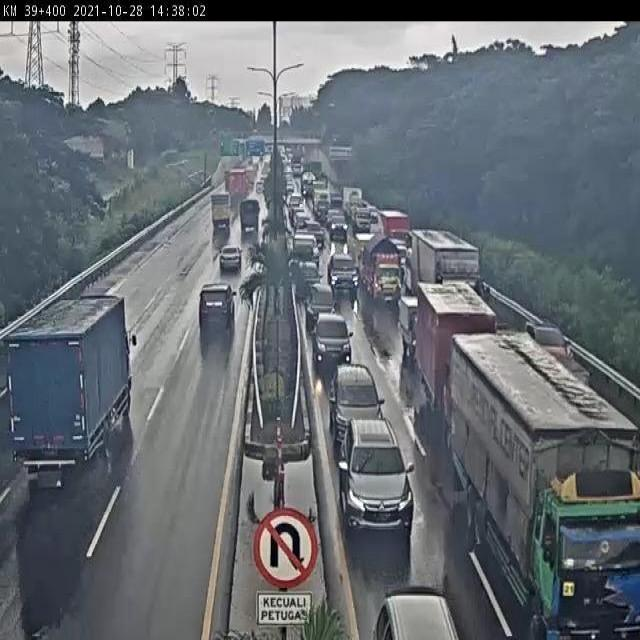big truck: (448, 325, 640, 640), (0, 277, 137, 535), (408, 277, 502, 453), (403, 218, 493, 302)
car: (338, 420, 416, 533), (327, 351, 397, 466), (371, 584, 477, 640), (517, 305, 582, 388), (309, 308, 363, 383), (193, 277, 245, 339), (395, 294, 427, 362), (330, 245, 361, 312), (292, 259, 321, 309), (305, 277, 333, 324), (219, 238, 245, 278), (331, 214, 350, 242)
small truck: (364, 236, 403, 301), (208, 188, 236, 241), (240, 193, 263, 240)
